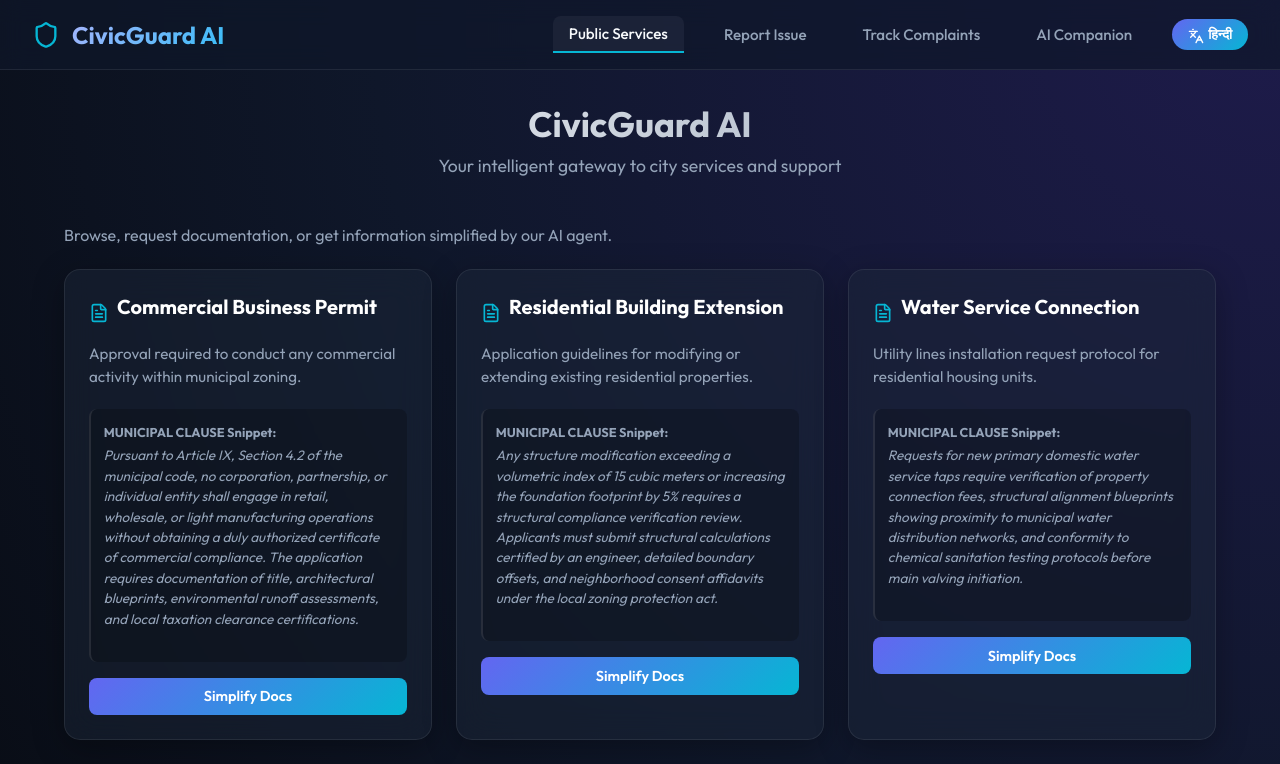
it: Report issue form › shows validation error when form is submitted without required fields
Click the button "Report Issue" at (765, 34), box [708,17,823,52]
(page scrolled)
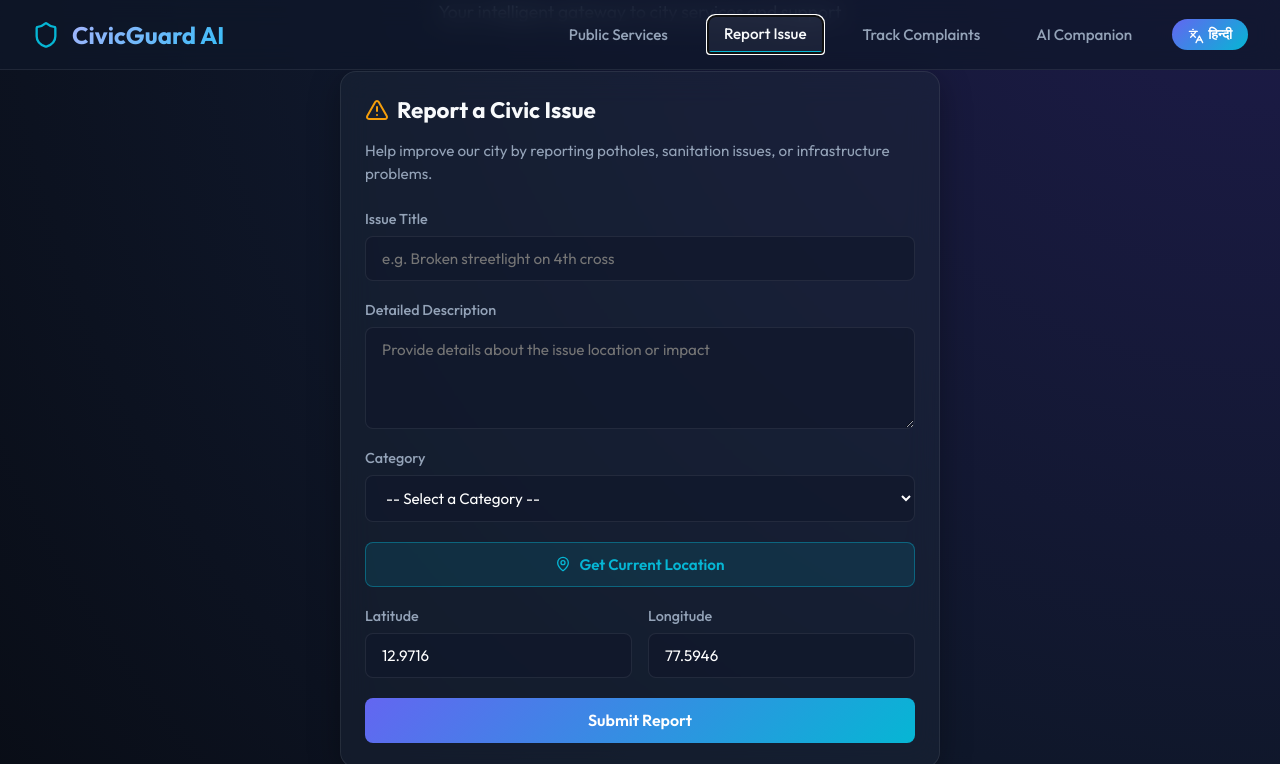
Submit the form, box [365,210,915,743]
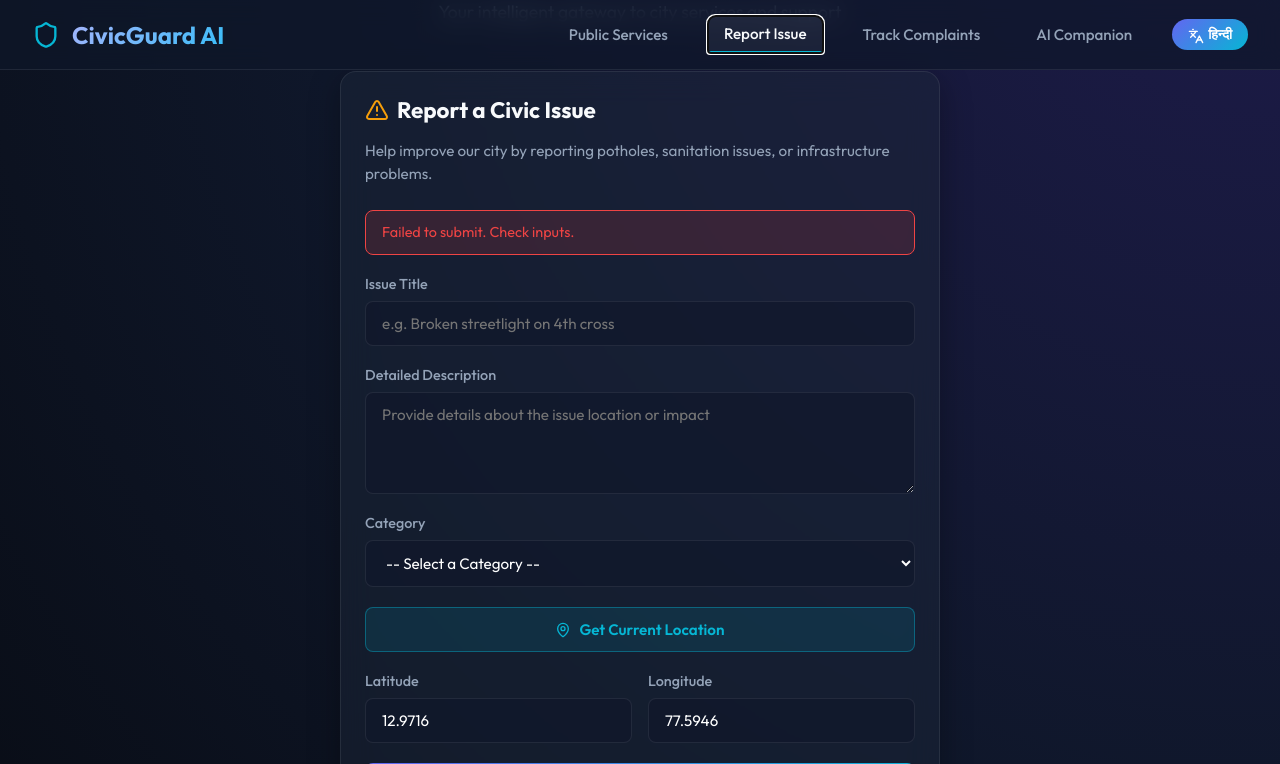
expect the text "Failed to submit. Check inputs." is shown: met, box [365,210,915,255]
